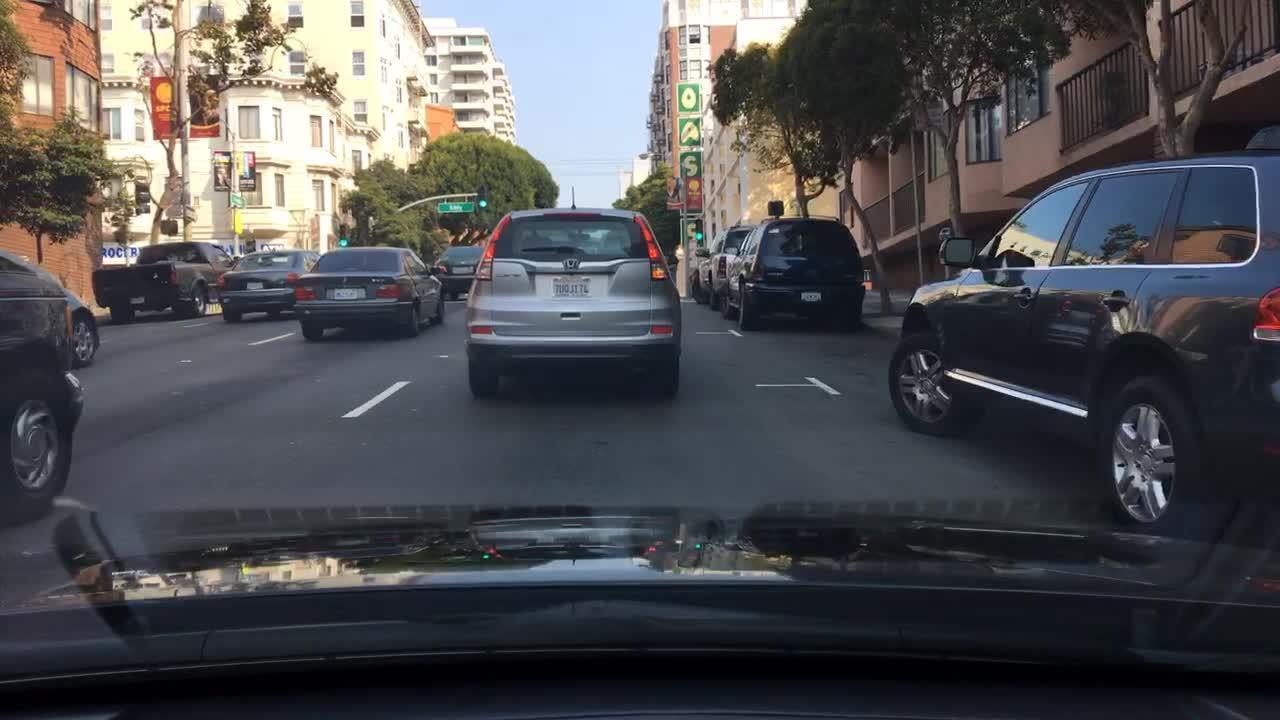Honda: (556, 254, 589, 278)
